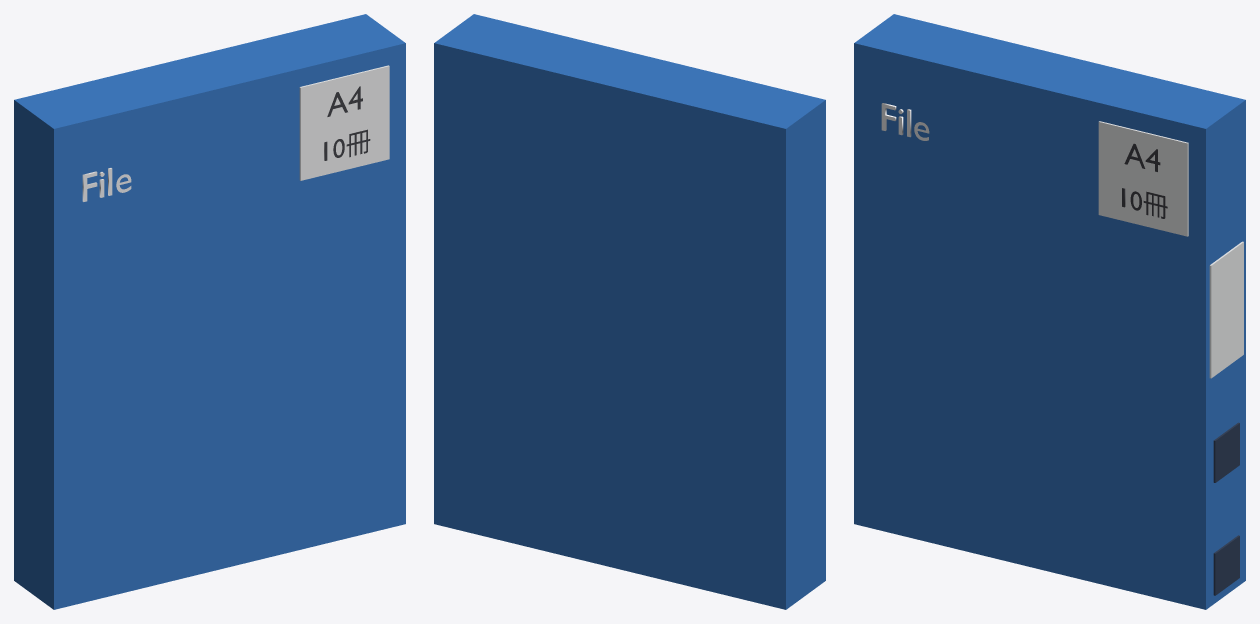
The picture shows the model from 3 angles, left to right: view 1: azimuth 30°, elevation 25°; view 2: azimuth 150°, elevation 25°; view 3: azimuth 330°, elevation 25°; orthographic projection.
Parts seen in each view (by area): view 1: Binder_Body, Front_InfoBox, Front_Brand_Text; view 2: Binder_Body; view 3: Binder_Body, Front_InfoBox, Spine_LabelWindow, Spine_RingSlot_0, Spine_RingSlot_1, Front_Brand_Text, Front_Info_Count.
Part boxes in pixels (<box>): Binder_Body: <box>14,14,405,609</box>; Front_InfoBox: <box>299,65,389,180</box>; Front_Brand_Text: <box>82,168,131,201</box>; Binder_Body: <box>434,14,825,609</box>; Binder_Body: <box>854,14,1245,609</box>; Front_InfoBox: <box>1098,121,1188,236</box>; Spine_LabelWindow: <box>1209,241,1243,378</box>; Spine_RingSlot_0: <box>1213,422,1239,482</box>; Spine_RingSlot_1: <box>1213,535,1239,595</box>; Front_Brand_Text: <box>881,103,929,140</box>; Front_Info_Count: <box>1122,188,1167,218</box>.
Size of the model in its own units: 0.2463 by 0.32 by 0.0498.
